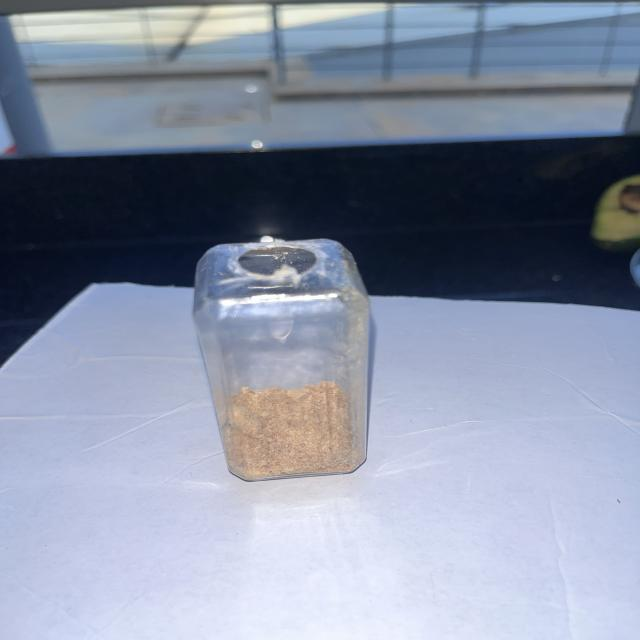maggie_open: (226, 388, 365, 480)
